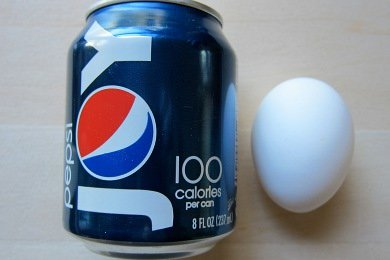pepsi: (74, 84, 156, 180), (74, 85, 156, 180), (74, 85, 152, 180)
